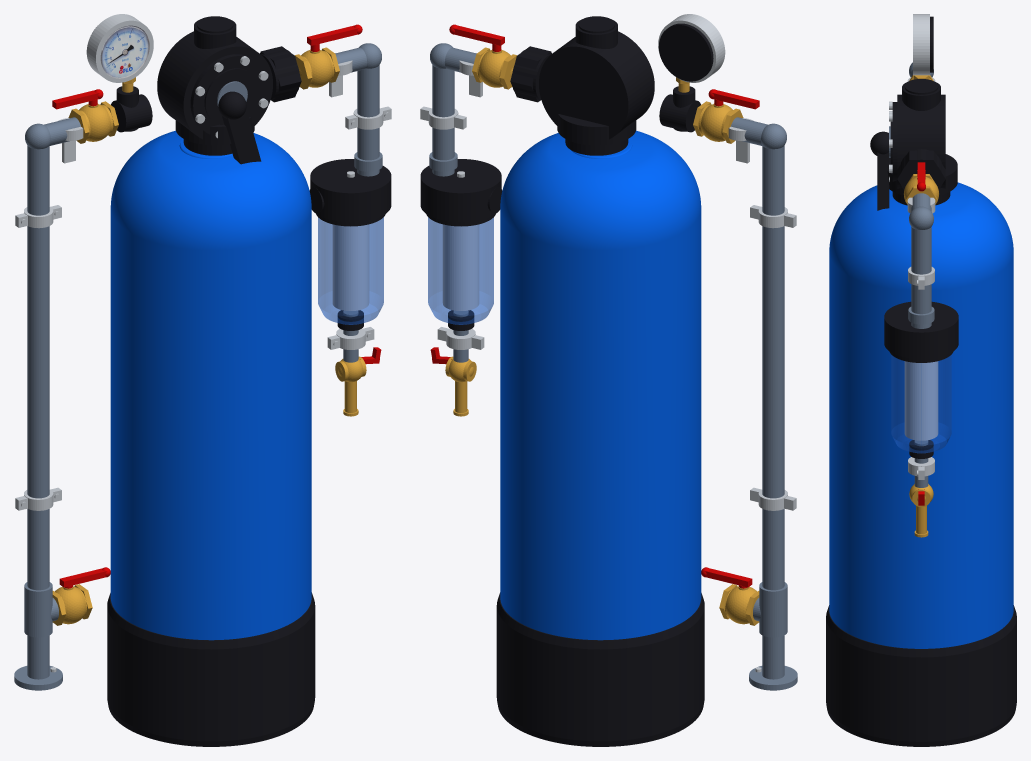
The model's file is water_filtration_tank.glb.
3 renders of one model, left to right at view 1: azimuth 30°, elevation 25°; view 2: azimuth 150°, elevation 25°; view 3: azimuth 270°, elevation 25°, orthographic. The views are drawn at different scales.
Visible parts, largest first — view 1: tank_shell, tank_base, pipeL_vertical, filter_bowl, valve_body, filter_cap, filter_cartridge, gauge_face, pipeR_vertical, valve_face_step, gauge_bezel, teeL_collar (+12 smaller); view 2: tank_shell, tank_base, pipeL_vertical, valve_body, filter_bowl, filter_cap, filter_cartridge, gauge_back, pipeR_vertical, head_collar, teeL_collar, gauge_bezel (+9 smaller); view 3: tank_shell, tank_base, filter_bowl, filter_cap, filter_cartridge, valve_body, pipeR_vertical, gauge_bezel, union_nut, lever, head_collar, top_port (+7 smaller).
Part boxes in pixels (x1,y1,x2,y2): tank_shell: [110, 130, 311, 640]; tank_base: [107, 592, 315, 746]; pipeL_vertical: [27, 145, 49, 679]; filter_bowl: [318, 217, 383, 324]; valve_body: [157, 31, 272, 139]; filter_cap: [310, 159, 391, 222]; filter_cartridge: [332, 224, 369, 310]; gauge_face: [100, 25, 149, 78]; pipeR_vertical: [357, 65, 379, 176]; valve_face_step: [190, 54, 268, 134]; gauge_bezel: [86, 14, 153, 82]; teeL_collar: [24, 582, 52, 637]; tank_shell: [500, 130, 701, 640]; tank_base: [496, 592, 704, 746]; pipeL_vertical: [762, 145, 784, 679]; valve_body: [539, 31, 654, 139]; filter_bowl: [428, 217, 493, 324]; filter_cap: [420, 159, 501, 222]; filter_cartridge: [442, 224, 479, 310]; gauge_back: [658, 23, 713, 81]; pipeR_vertical: [432, 65, 454, 176]; head_collar: [557, 114, 636, 145]; teeL_collar: [759, 582, 787, 637]; gauge_bezel: [658, 14, 725, 82]; tank_shell: [829, 182, 1013, 648]; tank_base: [826, 605, 1016, 746]; filter_bowl: [891, 355, 951, 453]; filter_cap: [884, 301, 958, 358]; filter_cartridge: [904, 361, 938, 440]; valve_body: [897, 94, 945, 188]; pipeR_vertical: [911, 227, 931, 328]; gauge_bezel: [913, 14, 929, 75]; union_nut: [897, 150, 945, 189]; lever: [877, 152, 889, 210]; head_collar: [887, 154, 957, 195]; top_port: [902, 82, 940, 110].
Bounding box in the file's own units: 0.849 × 1.54 × 0.41.
Materials: 9 (1 with a texture image).
